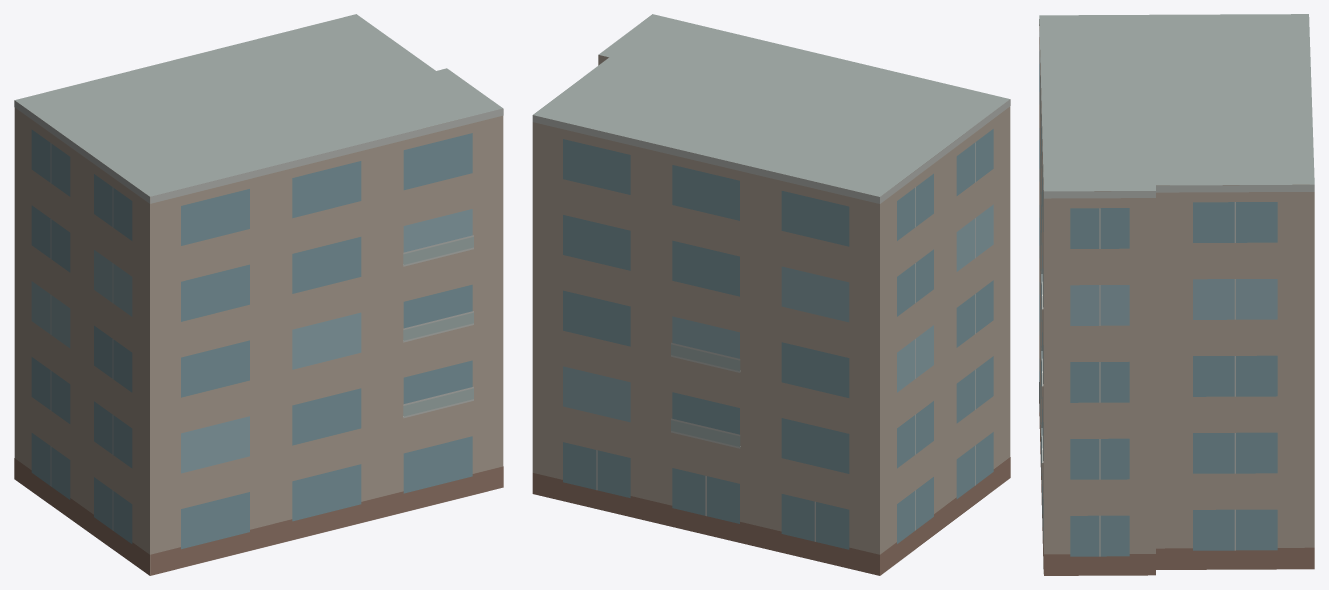
Rendered from survey-upis-32891735.glb.
3 views of the same model, side by side, from view 1: azimuth 30°, elevation 25°; view 2: azimuth 150°, elevation 25°; view 3: azimuth 270°, elevation 25° (orthographic).
Parts seen in each view (by area): view 1: survey-upis-32891735.tmp; view 2: survey-upis-32891735.tmp; view 3: survey-upis-32891735.tmp.
Boxes of the visible parts, x1,y1,x2,y2 form: survey-upis-32891735.tmp: (14, 14, 503, 575); survey-upis-32891735.tmp: (532, 14, 1010, 575); survey-upis-32891735.tmp: (1039, 14, 1314, 575).
Bounding box in the file's own units: 12.97 × 13.1 × 8.52.
